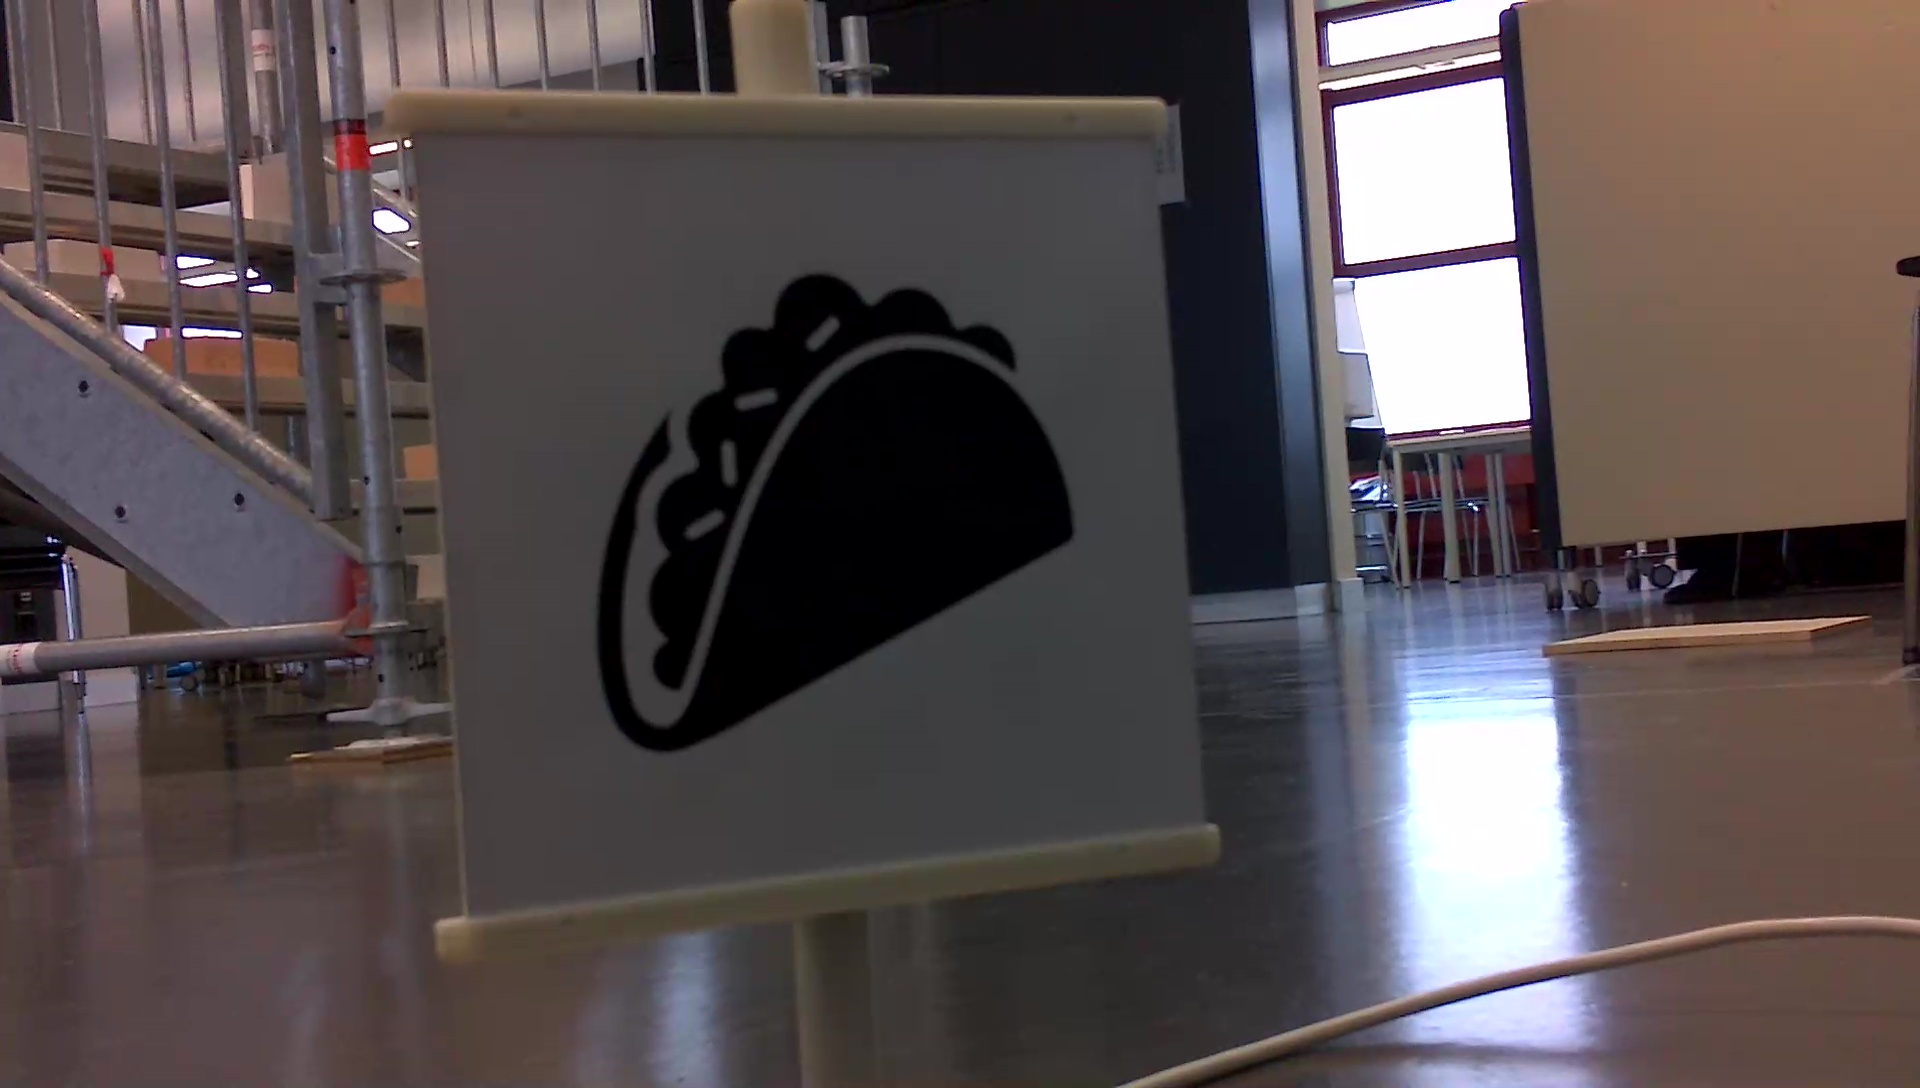brick: (413, 553, 440, 595), (405, 447, 435, 475)
taco: (580, 257, 1087, 762)
